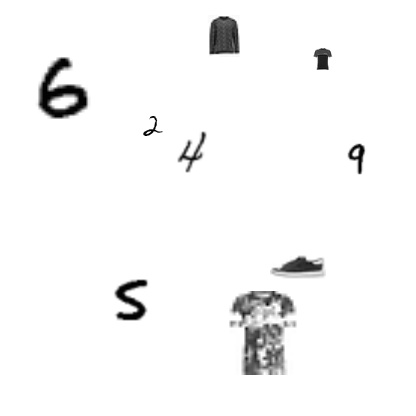2: (138, 114, 166, 142)
4: (164, 124, 220, 180)
5: (103, 272, 159, 328)
6: (18, 49, 102, 133)
9: (336, 135, 378, 177)
Pullover: (202, 15, 244, 57)
Sneaker: (270, 238, 326, 294)
T-shirt/top: (221, 291, 305, 375), (312, 48, 334, 70)
